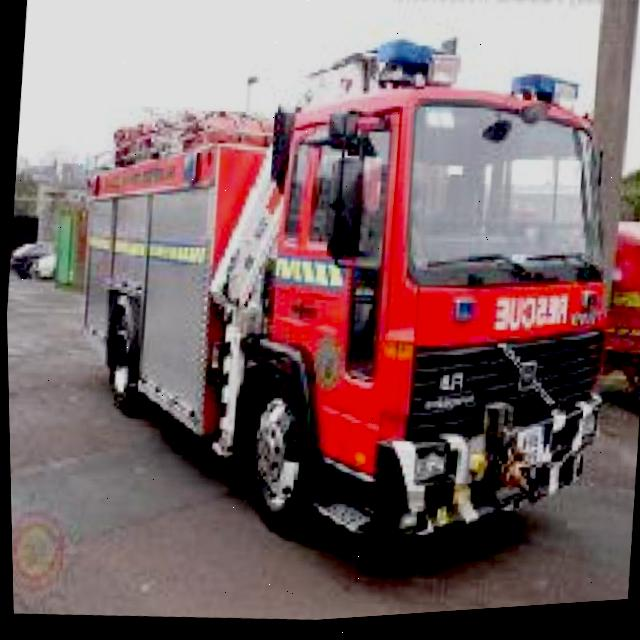emergency: (47, 0, 640, 587)
